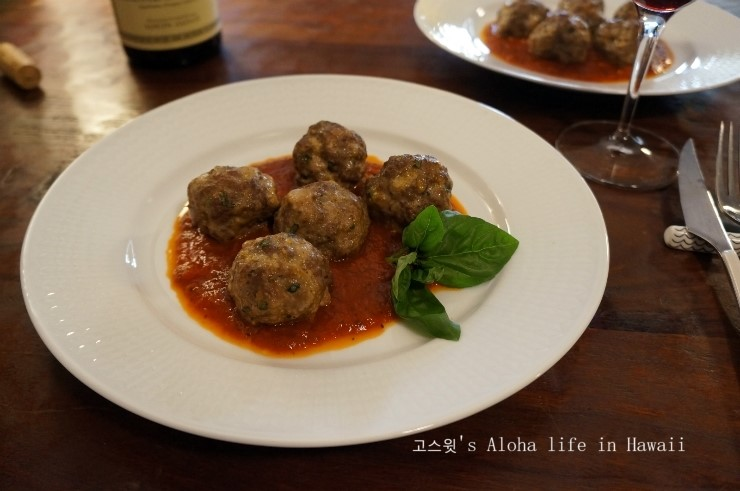meatballs: (290, 132, 451, 218), (223, 240, 330, 318), (197, 164, 277, 238)
